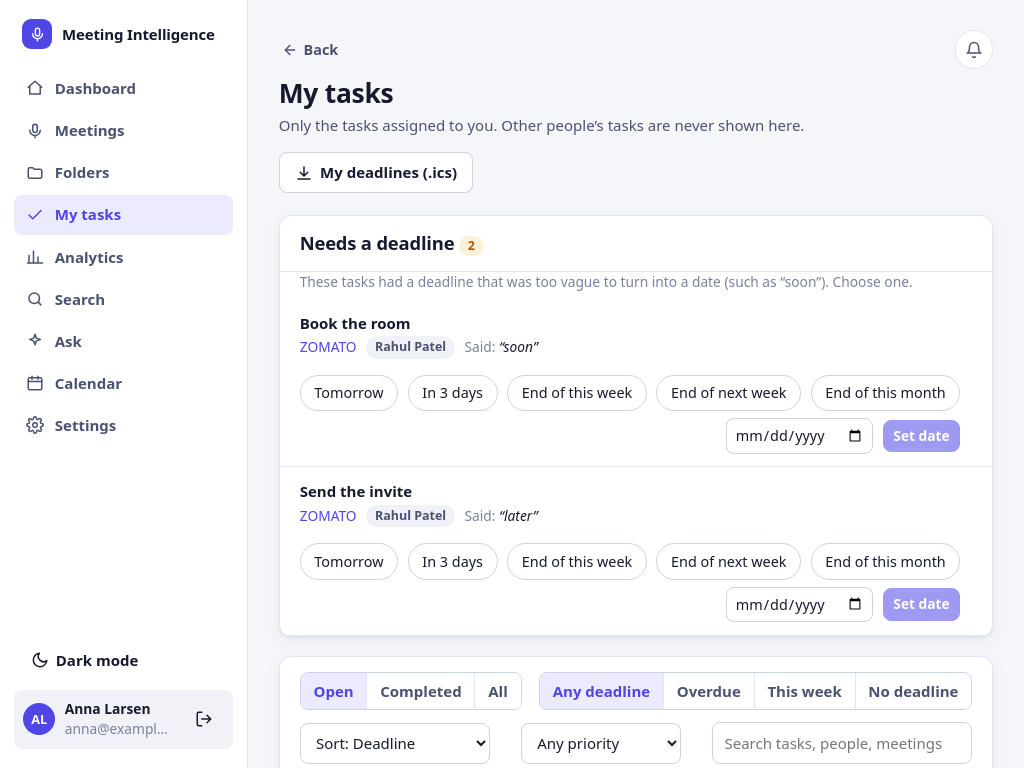
reviewing unclear deadlines on the Tasks page › a quick answer sets that date, and the task leaves the list
Click the button "Tomorrow" below "Book the room": (349, 393) top-left (300, 375), bottom-right (398, 411)
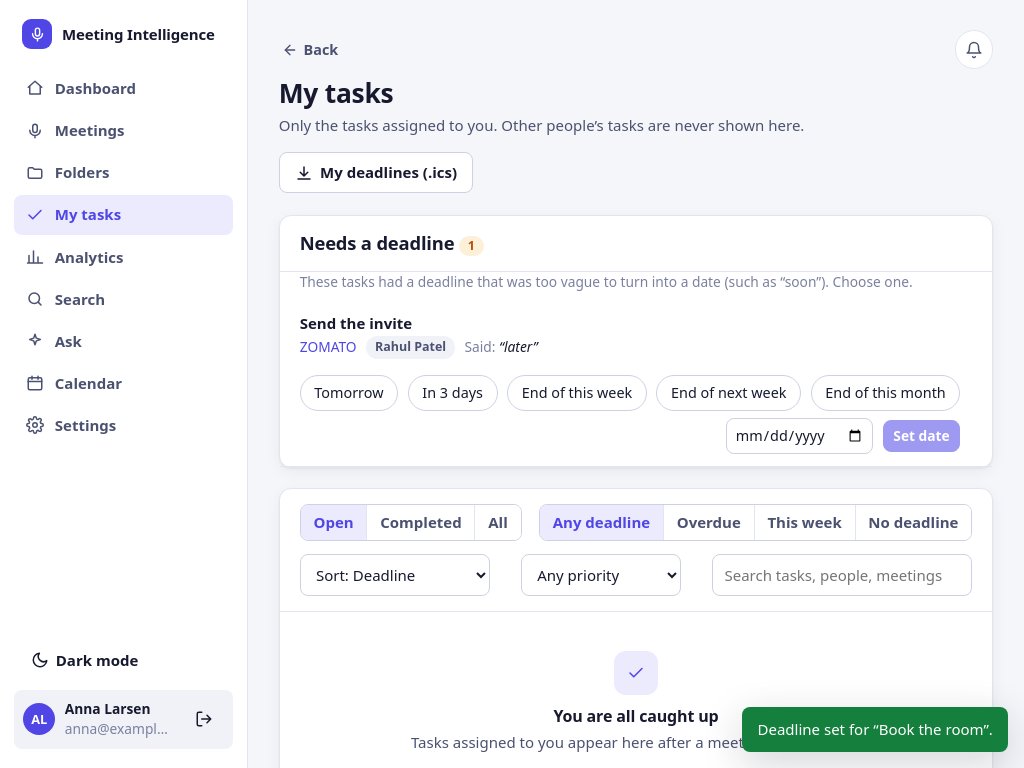
Expected: the text "Send the invite" is shown, top-left (300, 313), bottom-right (412, 333)
Expected: the text "Deadline set for “Book the room”." is shown, top-left (742, 707), bottom-right (1008, 752)
